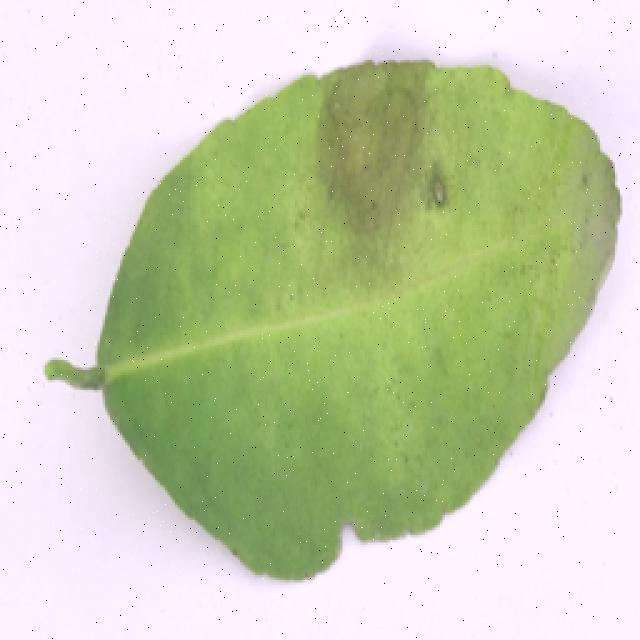blackspot: (48, 58, 618, 587)
